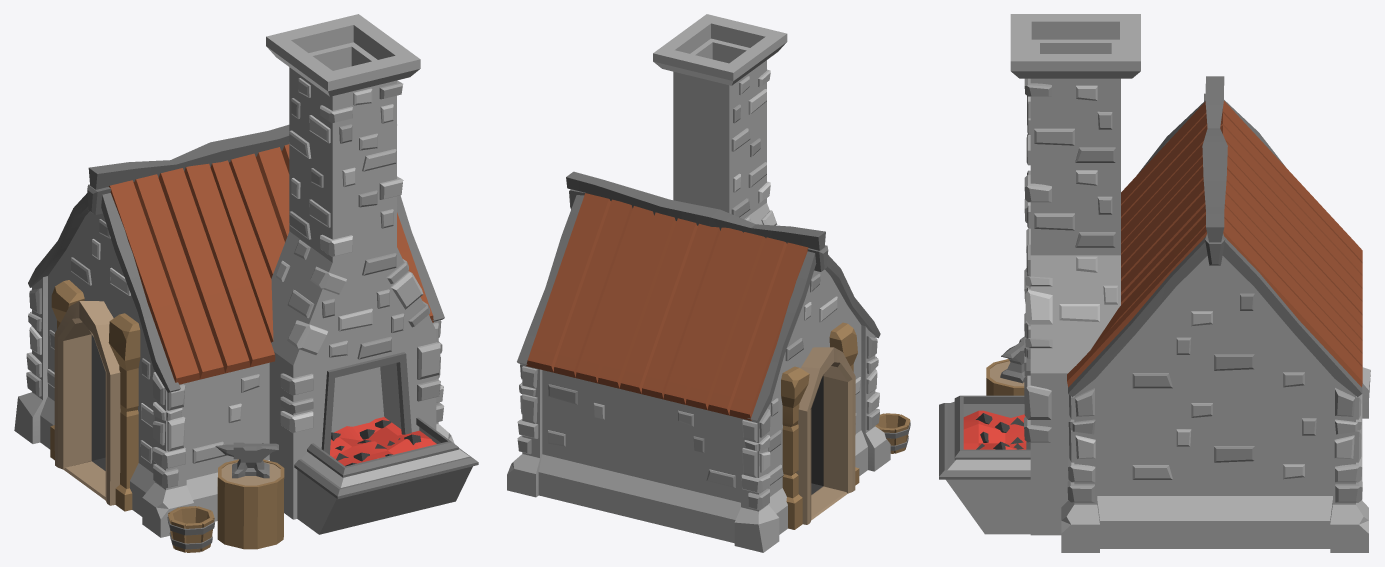
The model's file is smith.fbx.
The picture shows the model from 3 angles, left to right: view 1: azimuth 30°, elevation 25°; view 2: azimuth 150°, elevation 25°; view 3: azimuth 270°, elevation 25°; orthographic projection. The views are drawn at different scales.
Visible parts, largest first — view 1: Smith; view 2: Smith; view 3: Smith.
Boxes of the visible parts, <box> form: Smith: <box>14,14,478,552</box>; Smith: <box>507,14,910,552</box>; Smith: <box>939,14,1370,552</box>.
Size of the model in its own units: 253 by 348 by 296.
